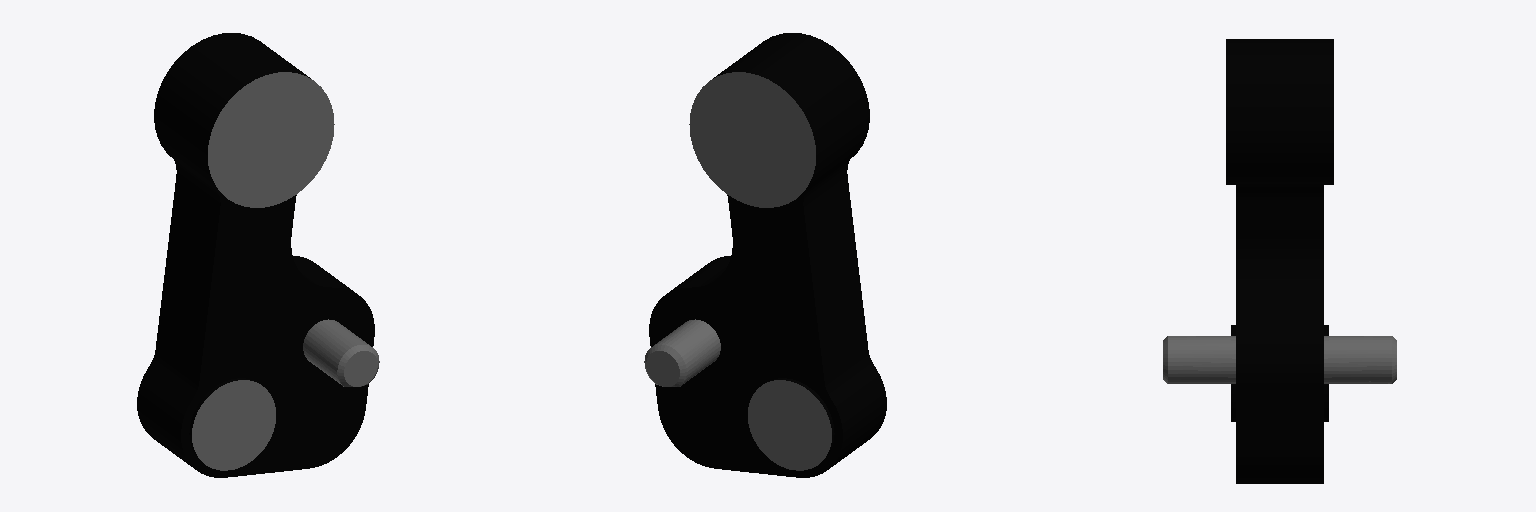
The model's file is robotiq_85_knuckle_link.obj.
The picture shows the model from 3 angles: view 1: azimuth 30°, elevation 25°; view 2: azimuth 150°, elevation 25°; view 3: azimuth 270°, elevation 25°; orthographic projection.
Visible parts, largest first — view 1: robotiq_85_knuckle_link_robotiq_85_knuckle_link; view 2: robotiq_85_knuckle_link_robotiq_85_knuckle_link; view 3: robotiq_85_knuckle_link_robotiq_85_knuckle_link.
Boxes of the visible parts, <box> form: robotiq_85_knuckle_link_robotiq_85_knuckle_link: <box>137,33,379,477</box>; robotiq_85_knuckle_link_robotiq_85_knuckle_link: <box>644,33,886,477</box>; robotiq_85_knuckle_link_robotiq_85_knuckle_link: <box>1163,39,1396,483</box>.
Bounding box in the file's own units: 0.0229 × 0.0462 × 0.024.